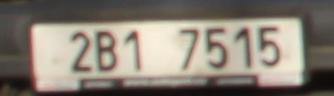1: (237, 28, 252, 68), (127, 30, 140, 69)
2: (72, 33, 90, 71)
5: (259, 27, 280, 65), (207, 29, 227, 67)
7: (179, 30, 198, 69)
B: (97, 32, 116, 70)
